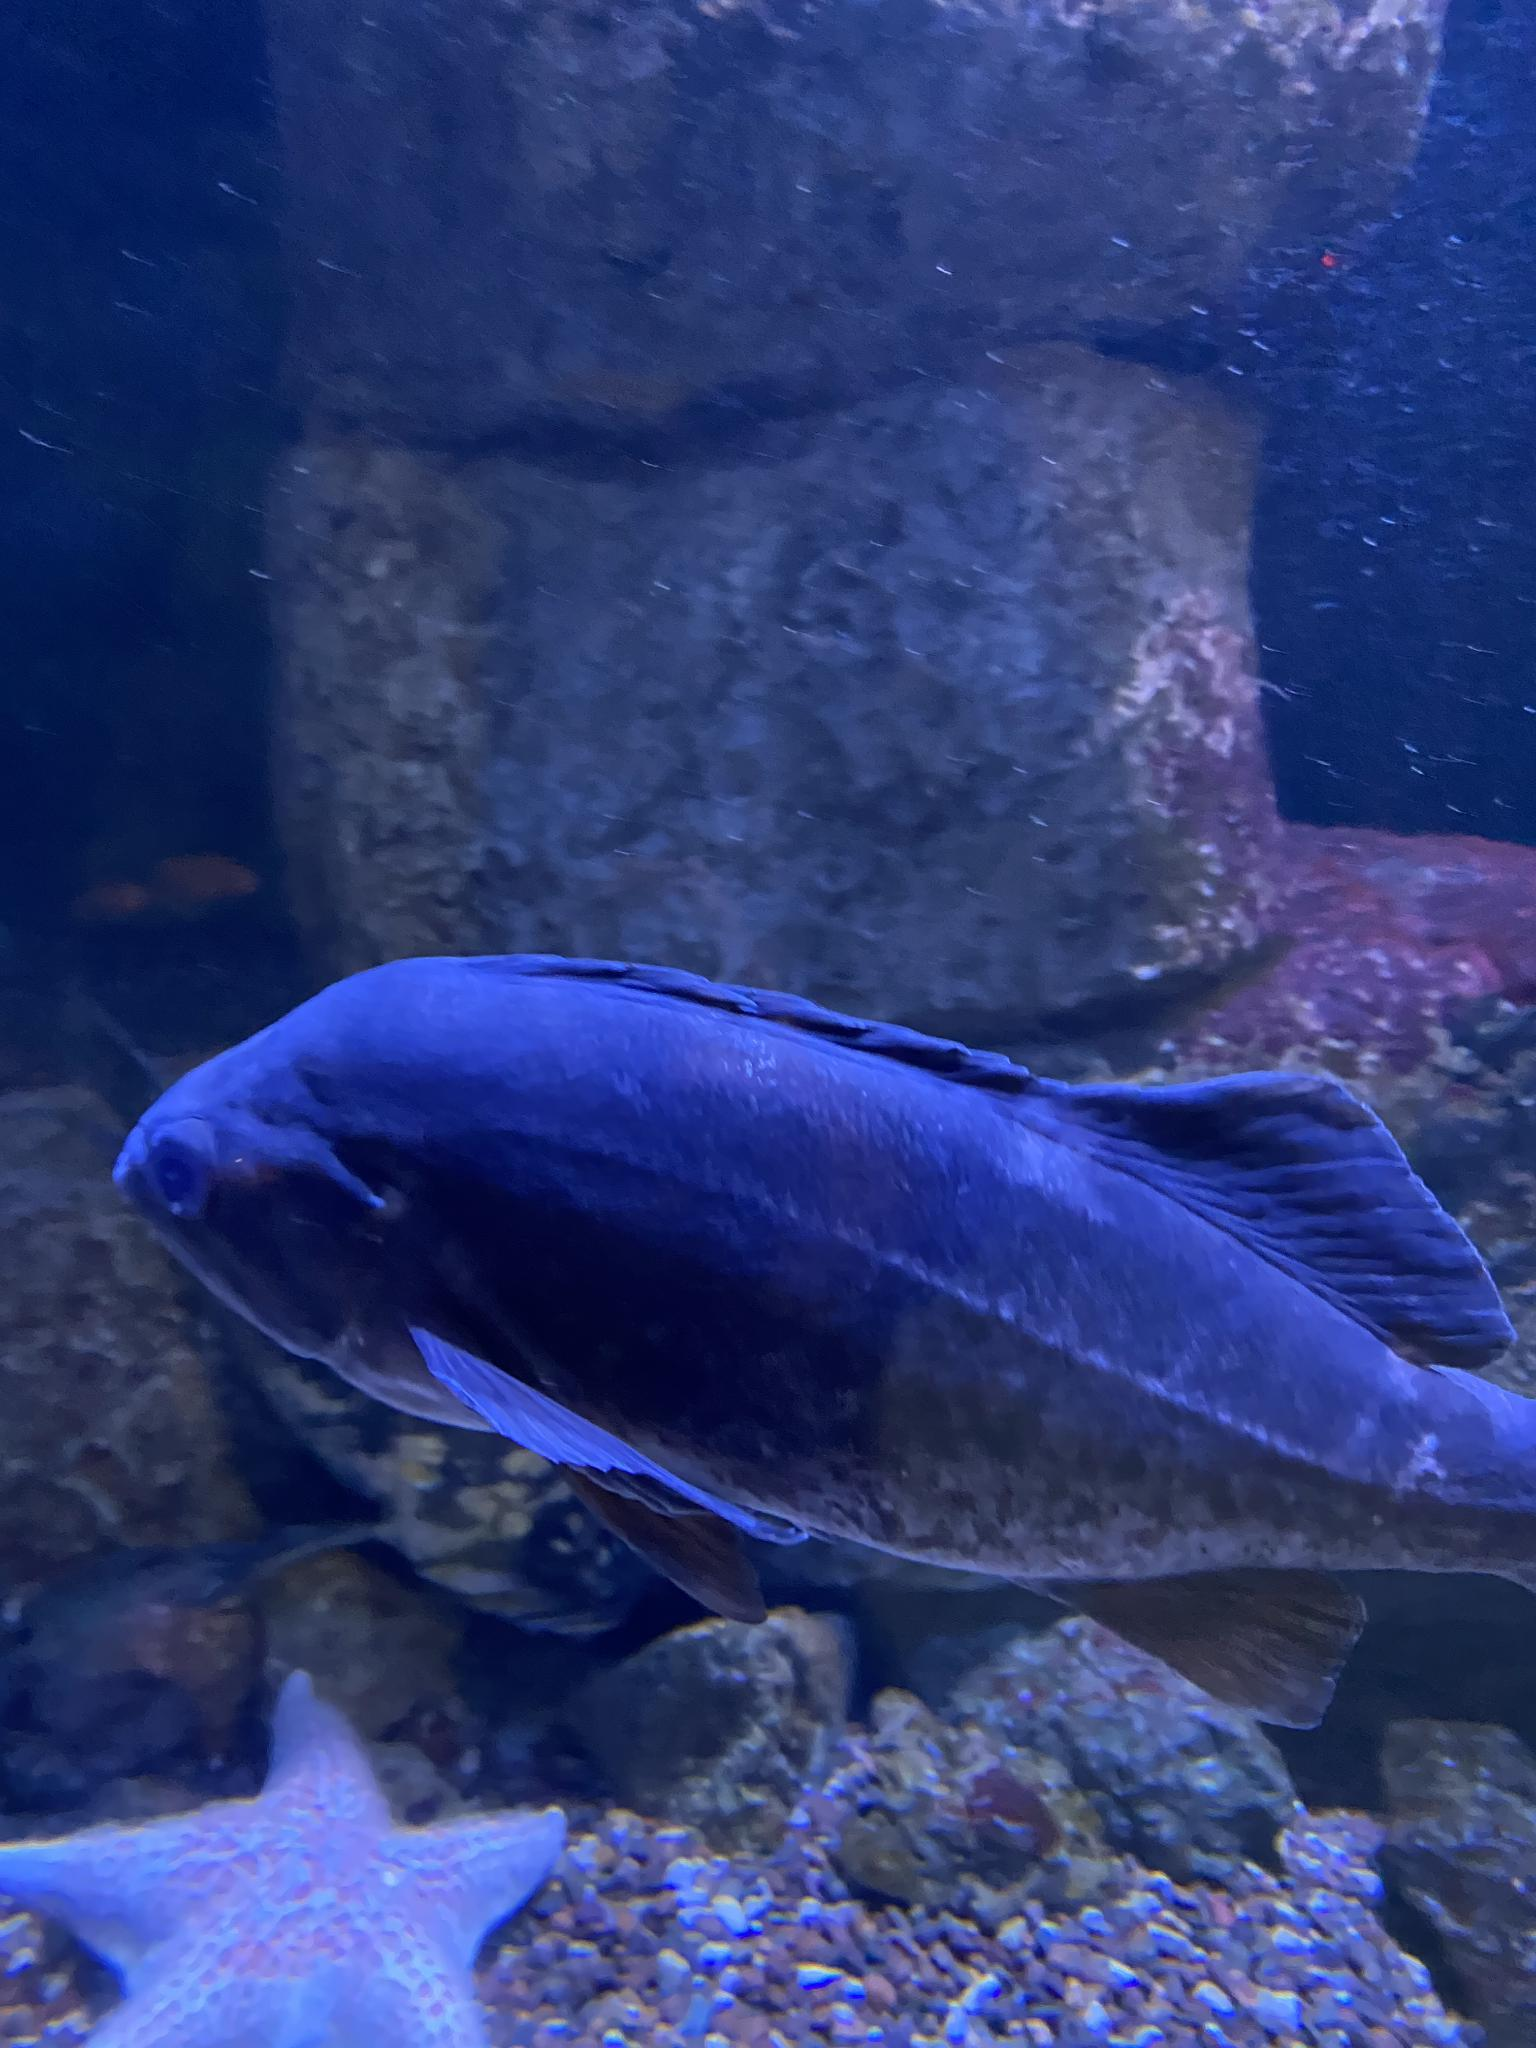fish: (119, 943, 1534, 1734)
starfish: (0, 1674, 571, 2046)
